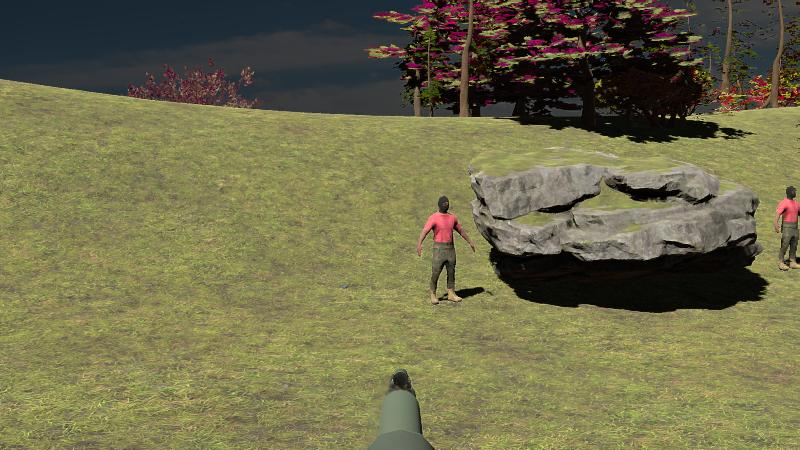Human: (417, 195, 475, 305), (775, 187, 800, 271)
